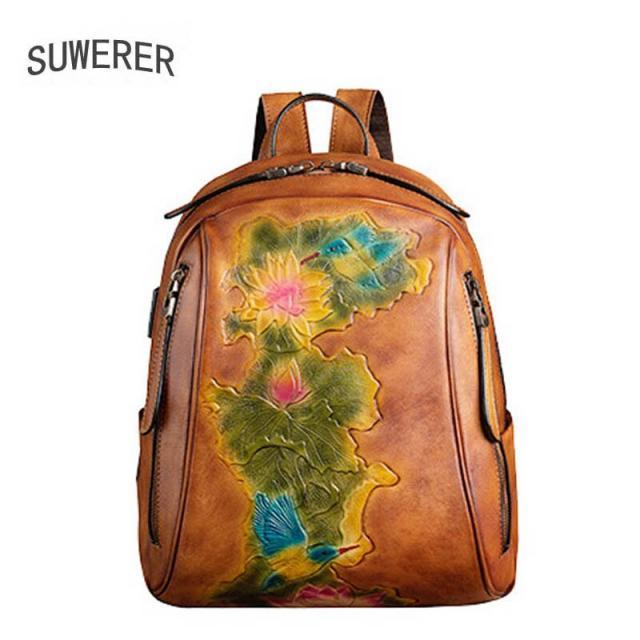Backpacks: (138, 150, 522, 608)
